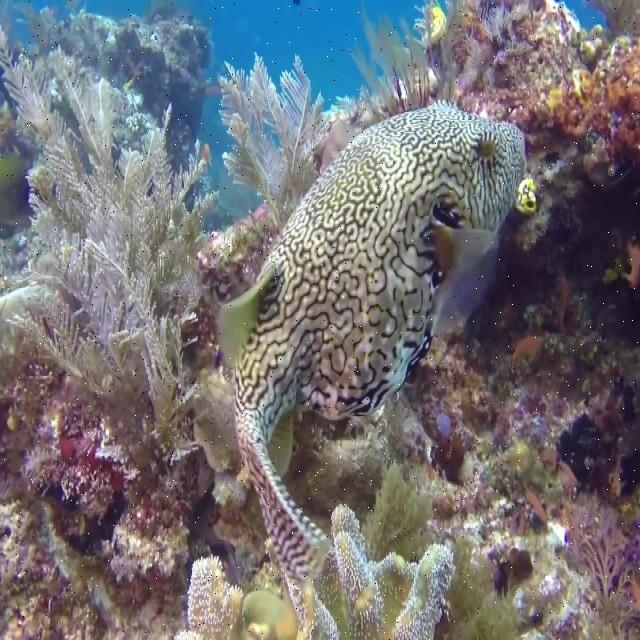fish: (218, 100, 527, 591)
reefs: (0, 28, 220, 462), (174, 461, 526, 639), (216, 52, 333, 211), (350, 1, 474, 122)
